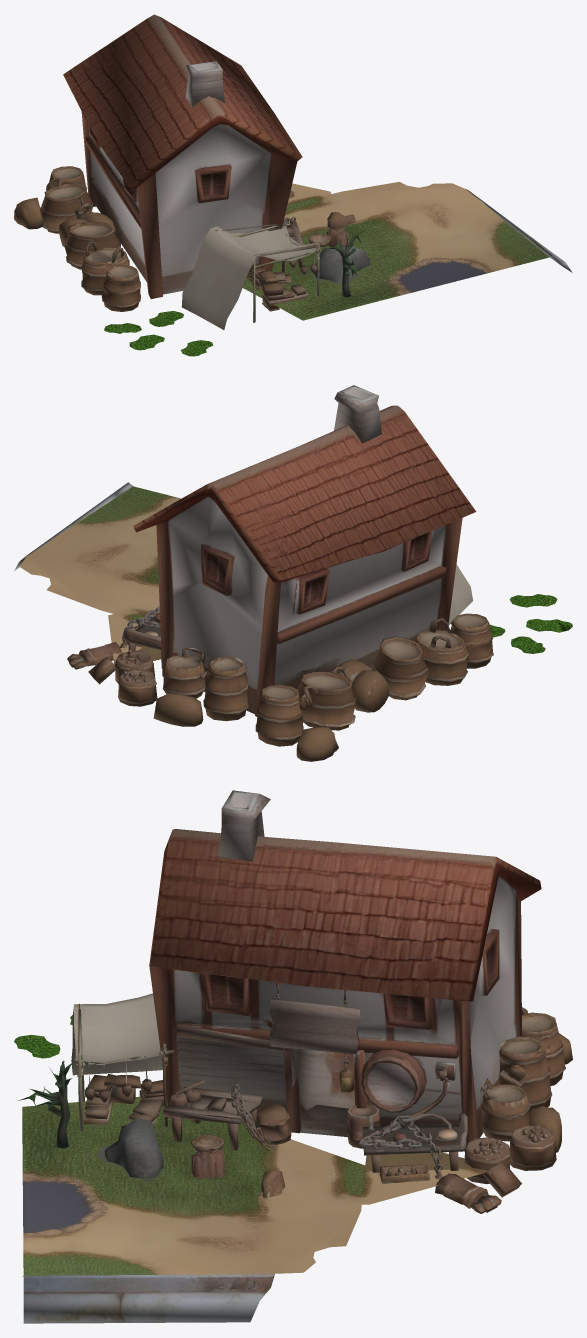
File: fence.glb
The picture shows the model from 3 angles, top to bottom: view 1: azimuth 30°, elevation 25°; view 2: azimuth 150°, elevation 25°; view 3: azimuth 270°, elevation 25°; orthographic projection. The views are drawn at different scales.
Parts seen in each view (by area): view 1: tripo_node_34ae6ef0-f298-4209-8d99-35b29fd438bd; view 2: tripo_node_34ae6ef0-f298-4209-8d99-35b29fd438bd; view 3: tripo_node_34ae6ef0-f298-4209-8d99-35b29fd438bd.
Boxes of the visible parts, x1,y1,x2,y2 form: tripo_node_34ae6ef0-f298-4209-8d99-35b29fd438bd: (14, 14, 572, 356); tripo_node_34ae6ef0-f298-4209-8d99-35b29fd438bd: (14, 385, 572, 761); tripo_node_34ae6ef0-f298-4209-8d99-35b29fd438bd: (14, 790, 572, 1323).
Bounding box in the file's own units: 6.96 × 3.5 × 5.57.
Materials: 1 (1 with a texture image).
